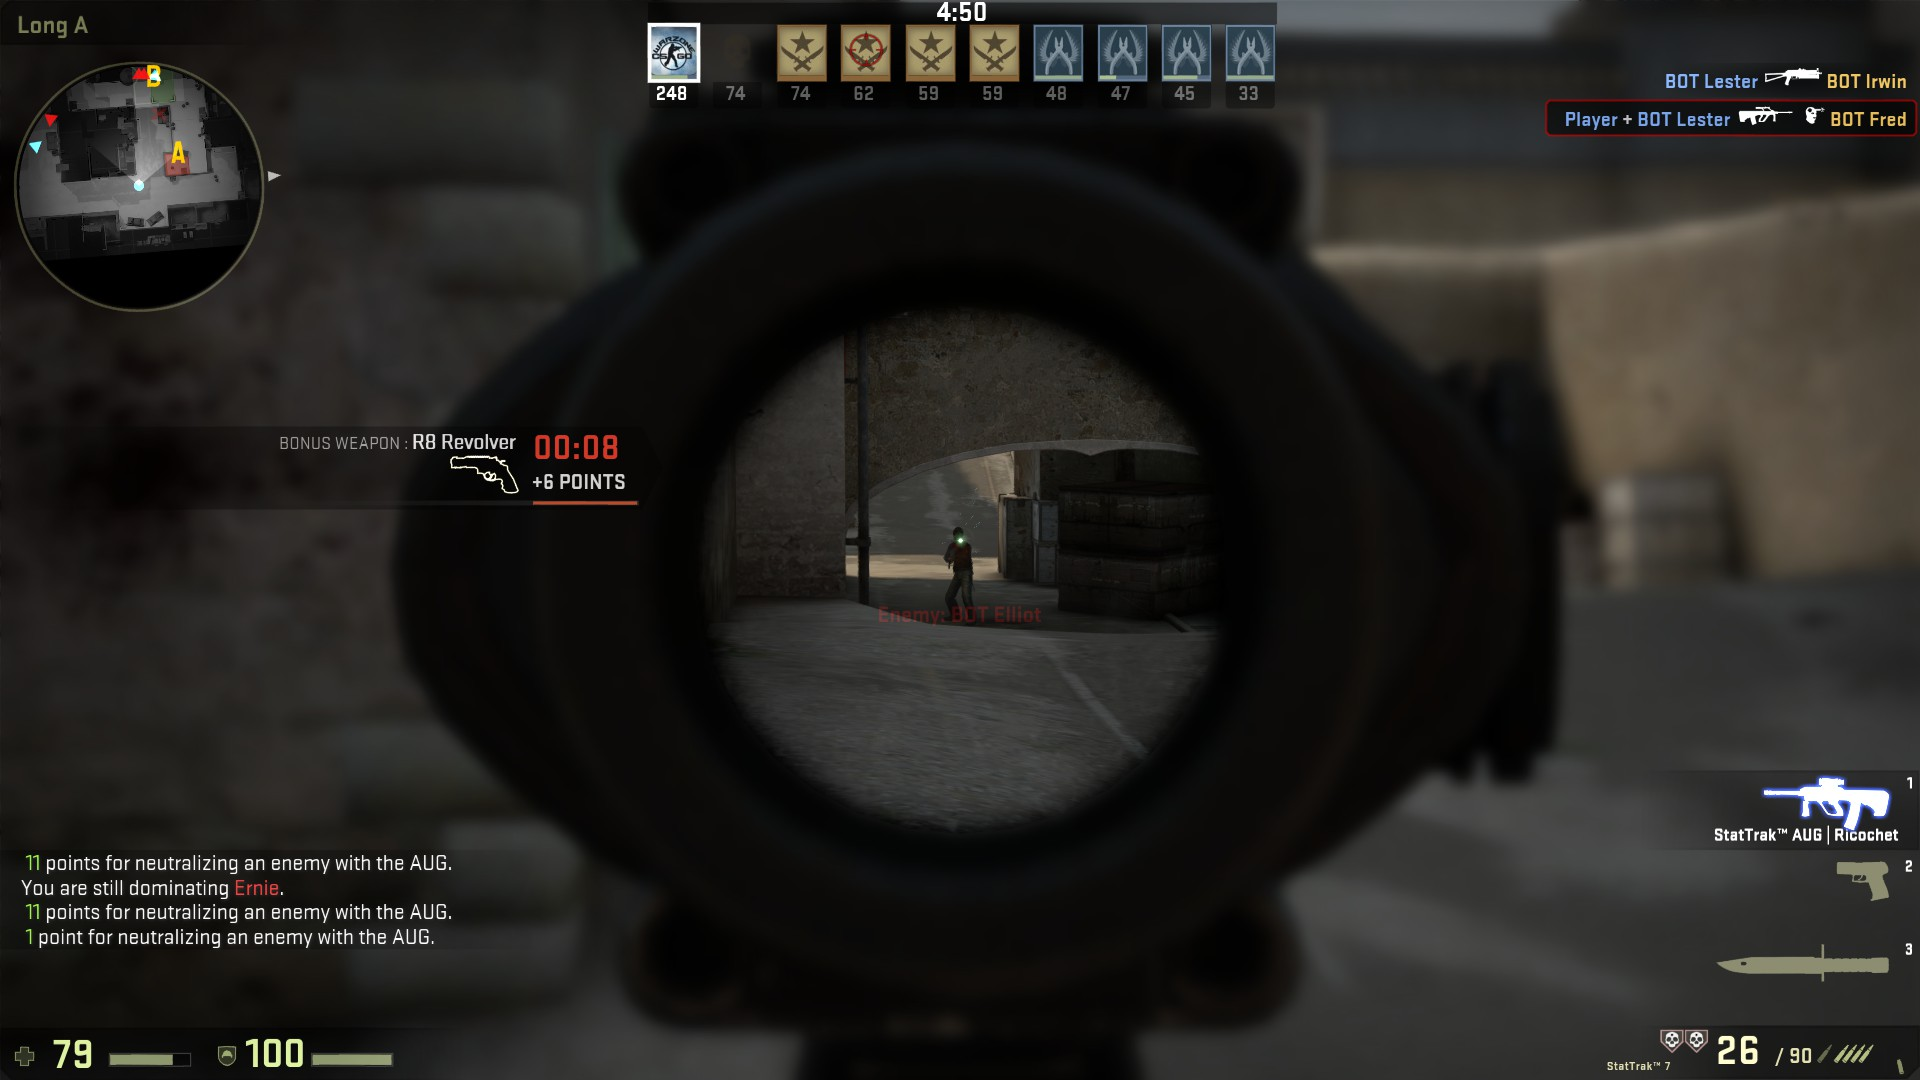t: (943, 524, 978, 622)
th: (948, 527, 967, 549)
